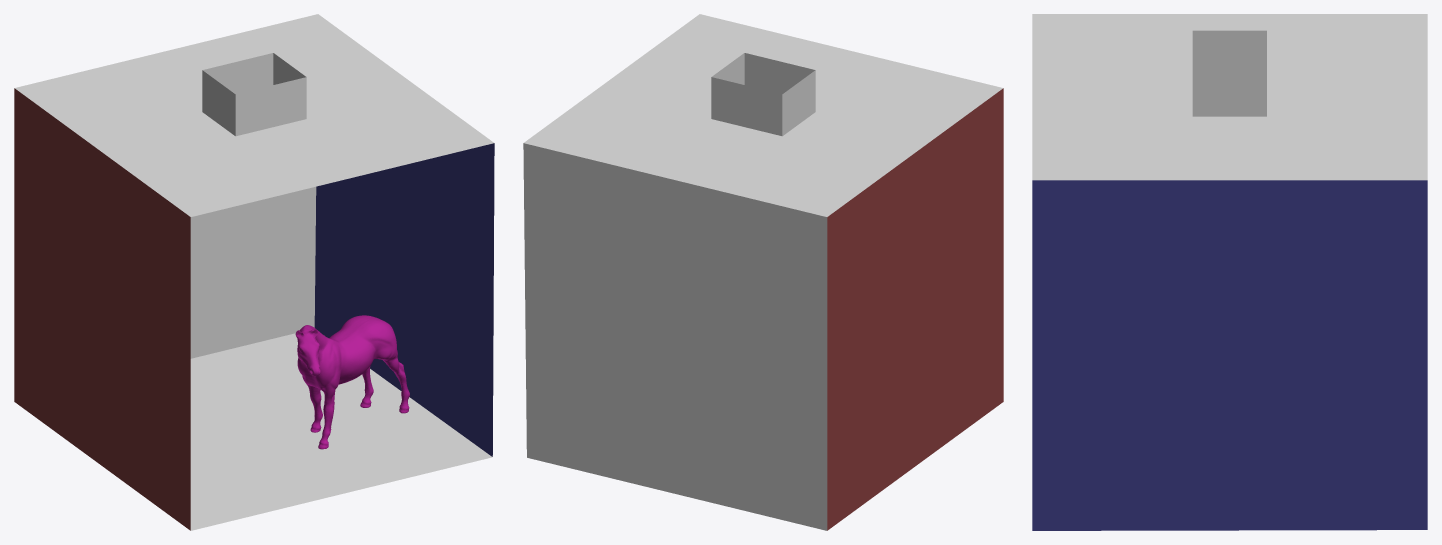
Rendered from cornellbox_horse.DAE.
The picture shows the model from 3 angles, left to right: view 1: azimuth 30°, elevation 25°; view 2: azimuth 150°, elevation 25°; view 3: azimuth 270°, elevation 25°; orthographic projection. The views are drawn at different scales.
Visible parts, largest first — view 1: object2, object4, object3, horse; view 2: object2, object4; view 3: object3, object2.
Part boxes in pixels (left/top/right/bottom): object2: left=14, top=14, right=493, bottom=530; object4: left=14, top=88, right=190, bottom=530; object3: left=314, top=143, right=494, bottom=456; horse: left=295, top=315, right=409, bottom=449; object2: left=523, top=14, right=1003, bottom=530; object4: left=827, top=88, right=1003, bottom=530; object3: left=1032, top=180, right=1427, bottom=530; object2: left=1032, top=14, right=1427, bottom=180.
Bounding box in the file's own units: 556 × 559 × 622.
